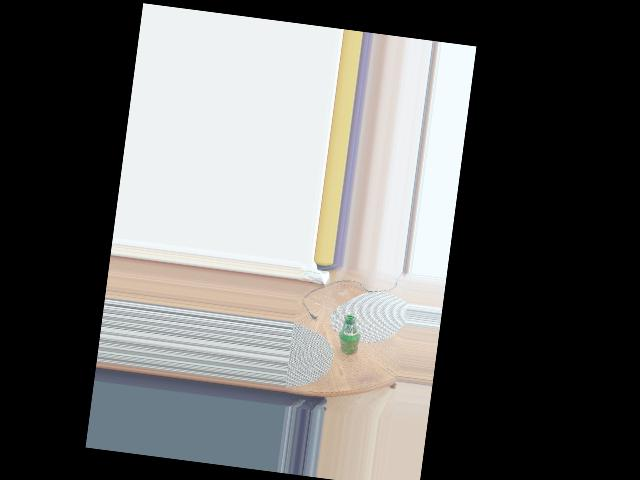beer: (337, 313, 363, 355)
